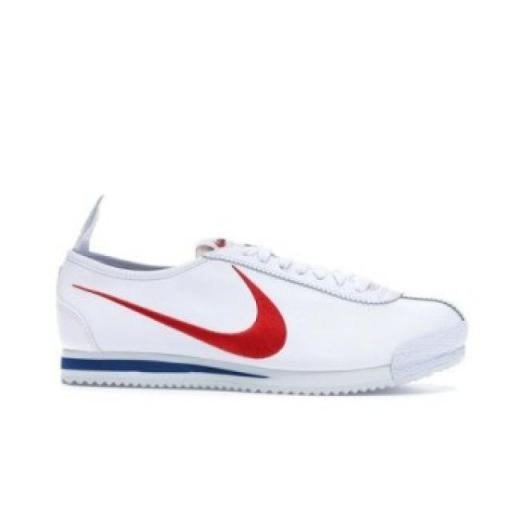Nike: (71, 270, 289, 364)
